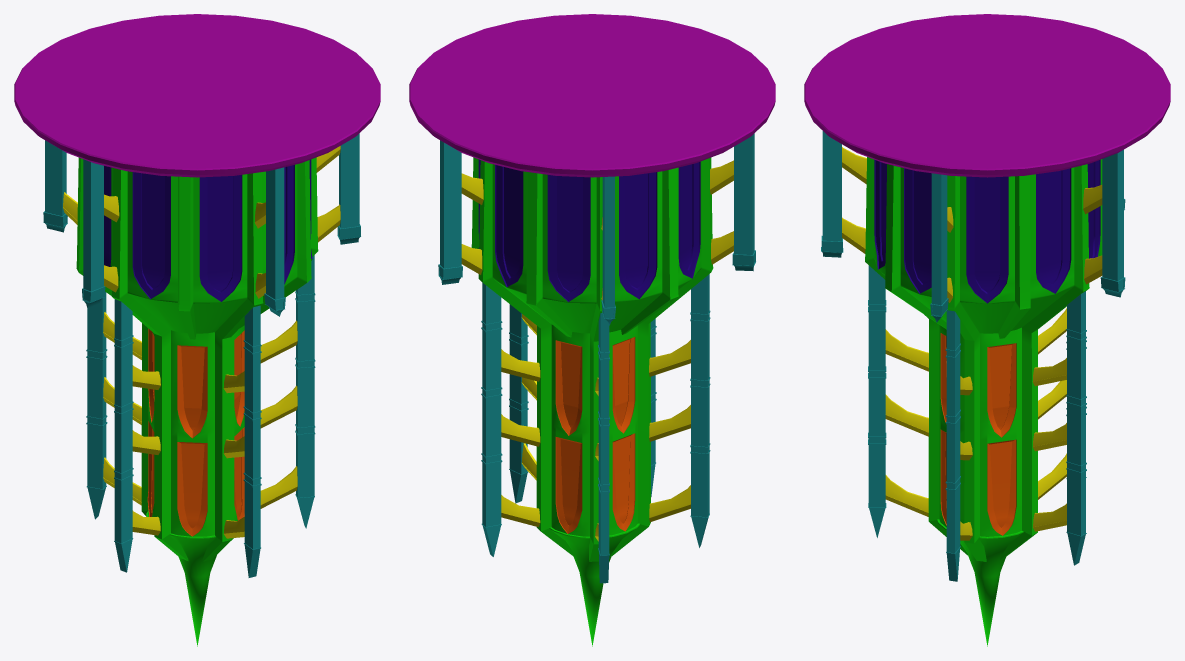
File: export level two 2.fbx
3 views of the same model, side by side, from view 1: azimuth 30°, elevation 25°; view 2: azimuth 150°, elevation 25°; view 3: azimuth 270°, elevation 25° (orthographic).
Parts seen in each view (by area): view 1: arena; view 2: arena; view 3: arena.
Part boxes in pixels (x1,y1,x2,y2): arena: [14, 14, 380, 646]; arena: [409, 14, 775, 646]; arena: [804, 14, 1170, 646].
Bounding box in the file's own units: 4408 × 7331 × 4384.
